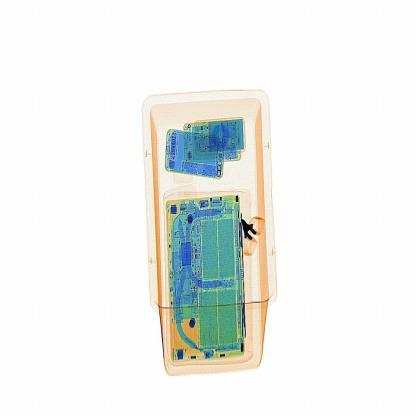gun: (236, 207, 268, 263)
